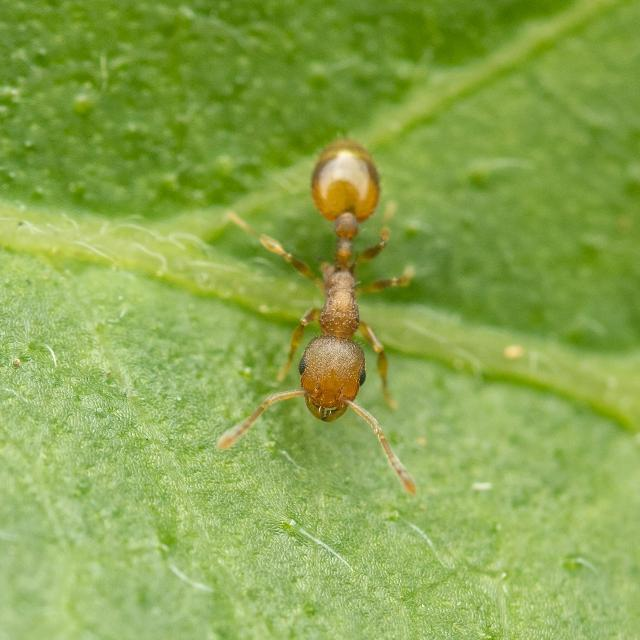Temnothorax: (221, 105, 434, 477)
